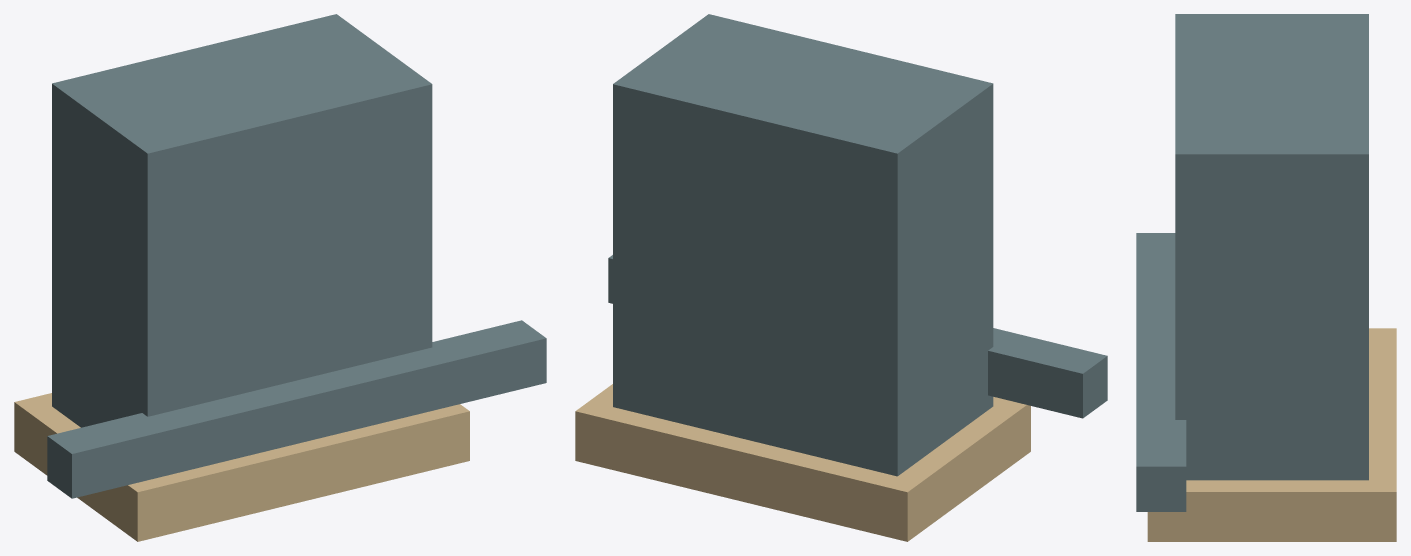
The model's file is automated-irrigation-controller.source.glb.
3 views of the same model, side by side, from view 1: azimuth 30°, elevation 25°; view 2: azimuth 150°, elevation 25°; view 3: azimuth 270°, elevation 25° (orthographic).
Visible parts, largest first — view 1: automated-irrigation-controller-cabinet-mesh, automated-irrigation-controller-pipe-mesh, automated-irrigation-controller-base-mesh; view 2: automated-irrigation-controller-cabinet-mesh, automated-irrigation-controller-base-mesh, automated-irrigation-controller-pipe-mesh; view 3: automated-irrigation-controller-cabinet-mesh, automated-irrigation-controller-base-mesh, automated-irrigation-controller-pipe-mesh.
Part boxes in pixels (x1=…): automated-irrigation-controller-cabinet-mesh: x1=52, y1=14, x2=432, y2=427; automated-irrigation-controller-pipe-mesh: x1=47, y1=320, x2=546, y2=498; automated-irrigation-controller-base-mesh: x1=14, y1=393, x2=469, y2=541; automated-irrigation-controller-cabinet-mesh: x1=613, y1=14, x2=993, y2=476; automated-irrigation-controller-base-mesh: x1=575, y1=384, x2=1030, y2=541; automated-irrigation-controller-pipe-mesh: x1=608, y1=255, x2=1107, y2=418; automated-irrigation-controller-cabinet-mesh: x1=1175, y1=14, x2=1368, y2=480; automated-irrigation-controller-base-mesh: x1=1147, y1=328, x2=1396, y2=541; automated-irrigation-controller-pipe-mesh: x1=1136, y1=233, x2=1186, y2=511.
Bounding box in the file's own units: 2 × 1.5 × 0.94.
